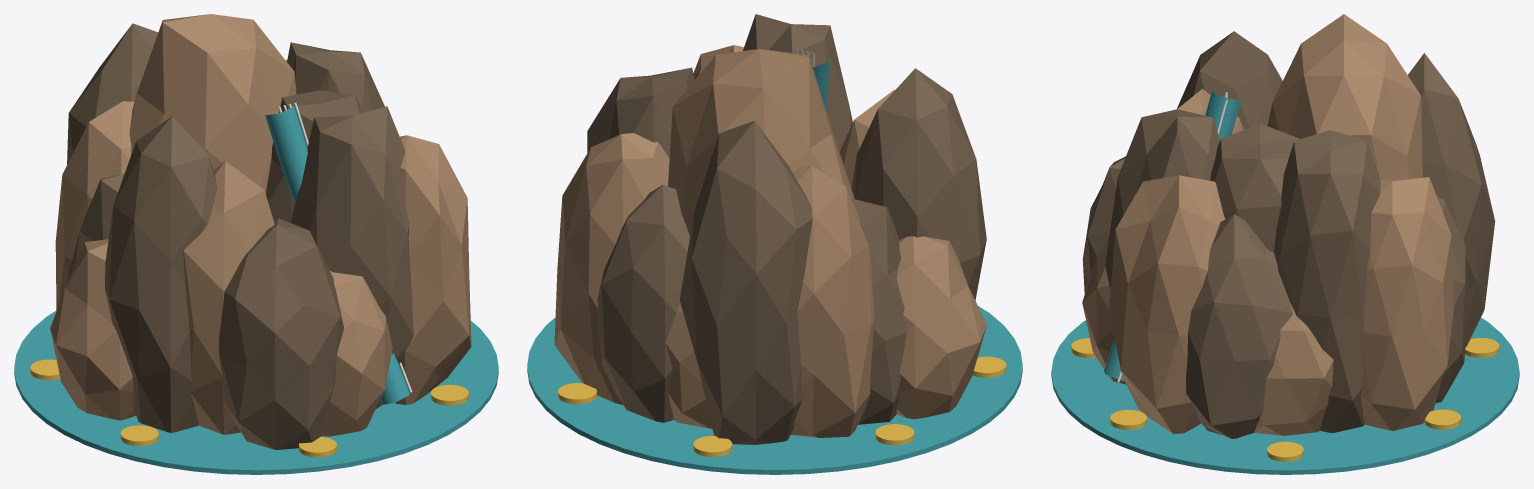
The model's file is mountain.glb.
3 views of the same model, side by side, from view 1: azimuth 30°, elevation 25°; view 2: azimuth 150°, elevation 25°; view 3: azimuth 270°, elevation 25° (orthographic). The views are drawn at different scales.
Bounding box in the file's own units: 5.6 × 4.88 × 5.6.
